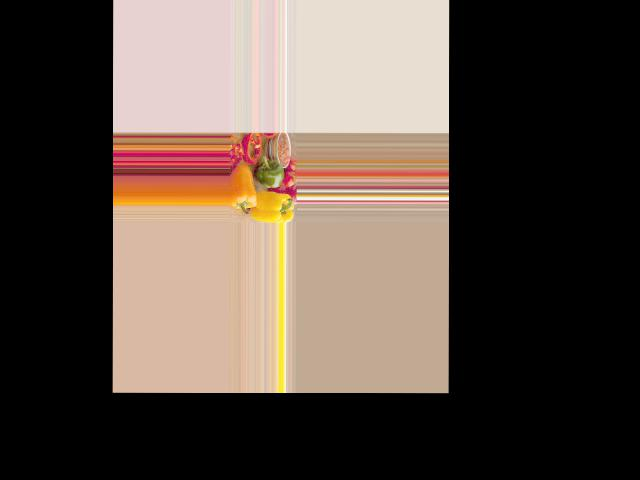bell_pepper: (257, 190, 293, 222)
